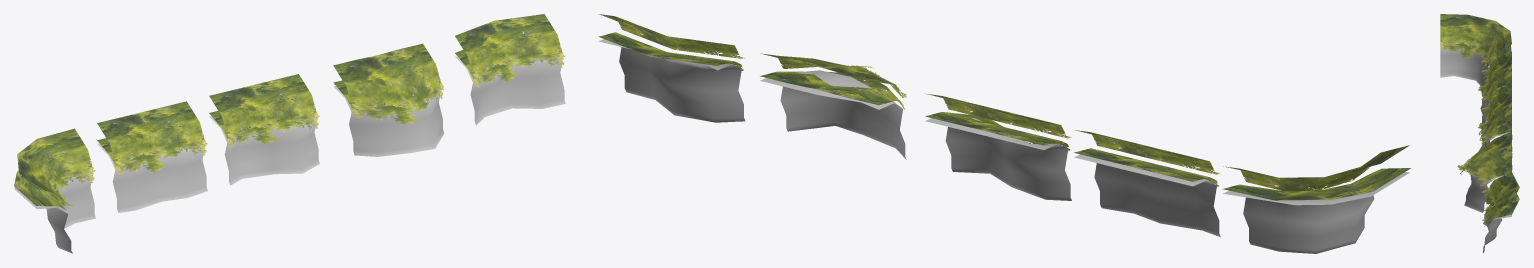
Rendered from walls.fbx.
The picture shows the model from 3 angles, left to right: view 1: azimuth 30°, elevation 25°; view 2: azimuth 150°, elevation 25°; view 3: azimuth 270°, elevation 25°; orthographic projection. The views are drawn at different scales.
Visible parts, largest first — view 1: Cube.029, Cube.018, Cube.027, Cube.032, Cube.026; view 2: Cube.026, Cube.032, Cube.027, Cube.018, Cube.029; view 3: Cube.026, Cube.029, Cube.032, Cube.027, Cube.018.
Part boxes in pixels (x1,y1,x2,y2): Cube.029: (333,43,443,156); Cube.018: (97,101,207,212); Cube.027: (209,74,319,185); Cube.032: (455,14,565,125); Cube.026: (14,128,95,253); Cube.026: (1223,145,1410,253); Cube.032: (598,14,745,122); Cube.027: (925,93,1071,200); Cube.018: (1074,130,1220,237); Cube.029: (760,53,906,159); Cube.026: (1440,14,1511,91); Cube.029: (1457,131,1512,212); Cube.032: (1482,172,1519,252); Cube.027: (1478,89,1511,151); Cube.018: (1478,52,1511,129).
Bounding box in the file's own units: 3856 × 489 × 688.
